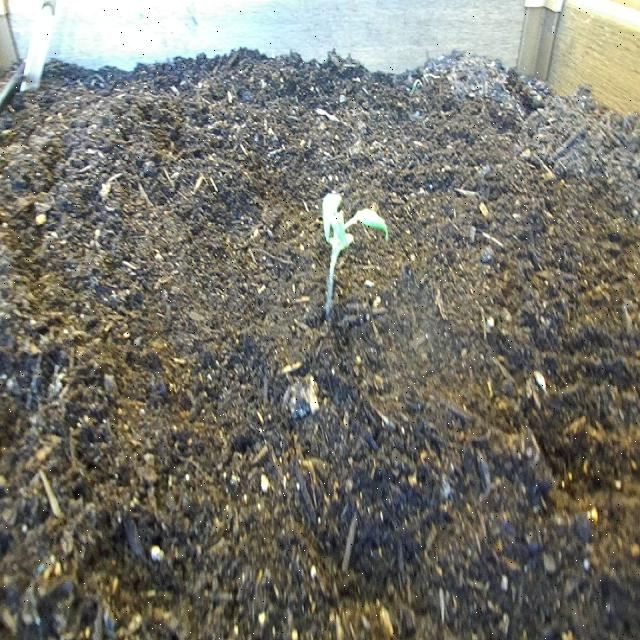Healthy: (308, 168, 396, 344)
